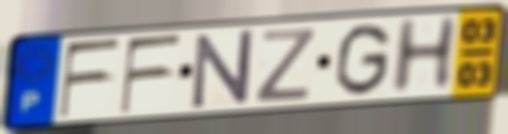F: (118, 32, 185, 117), (57, 36, 124, 121)
G: (332, 21, 394, 99)
H: (387, 13, 462, 98)
N: (190, 27, 255, 112)
Z: (252, 26, 319, 105)
